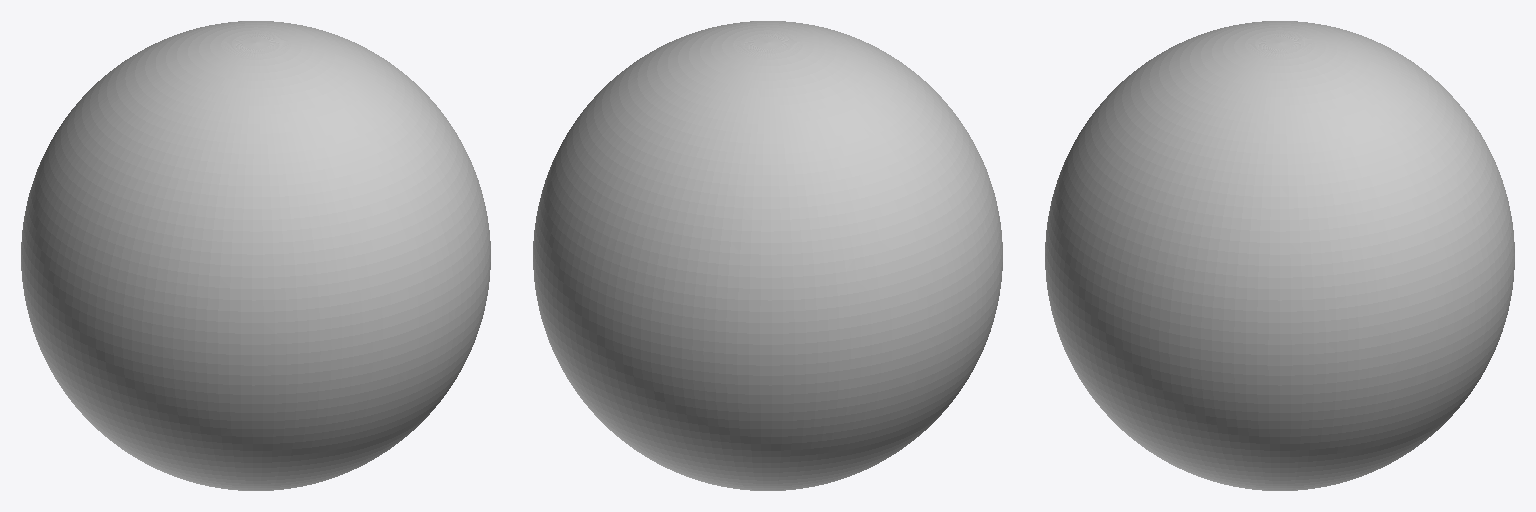
File: earth.obj
3 views of the same model, side by side, from view 1: azimuth 30°, elevation 25°; view 2: azimuth 150°, elevation 25°; view 3: azimuth 270°, elevation 25° (orthographic).
Parts seen in each view (by area): view 1: Sphere; view 2: Sphere; view 3: Sphere.
Boxes of the visible parts, x1=… form: Sphere: x1=21, y1=21, x2=490, y2=490; Sphere: x1=533, y1=21, x2=1002, y2=490; Sphere: x1=1045, y1=21, x2=1514, y2=490.
Size of the model in its own units: 9.98 by 10 by 9.98.